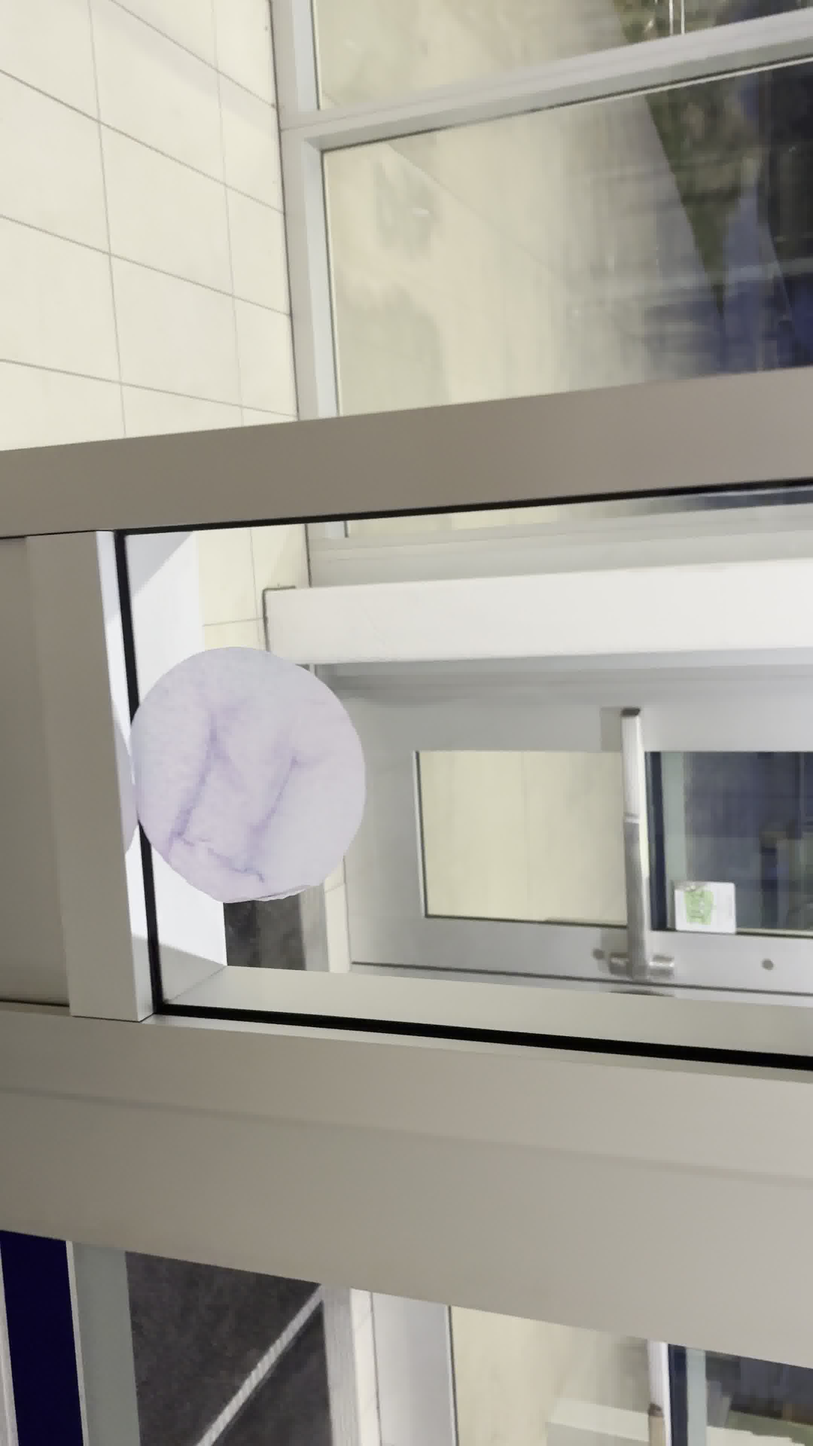Target: (127, 635, 369, 911)
